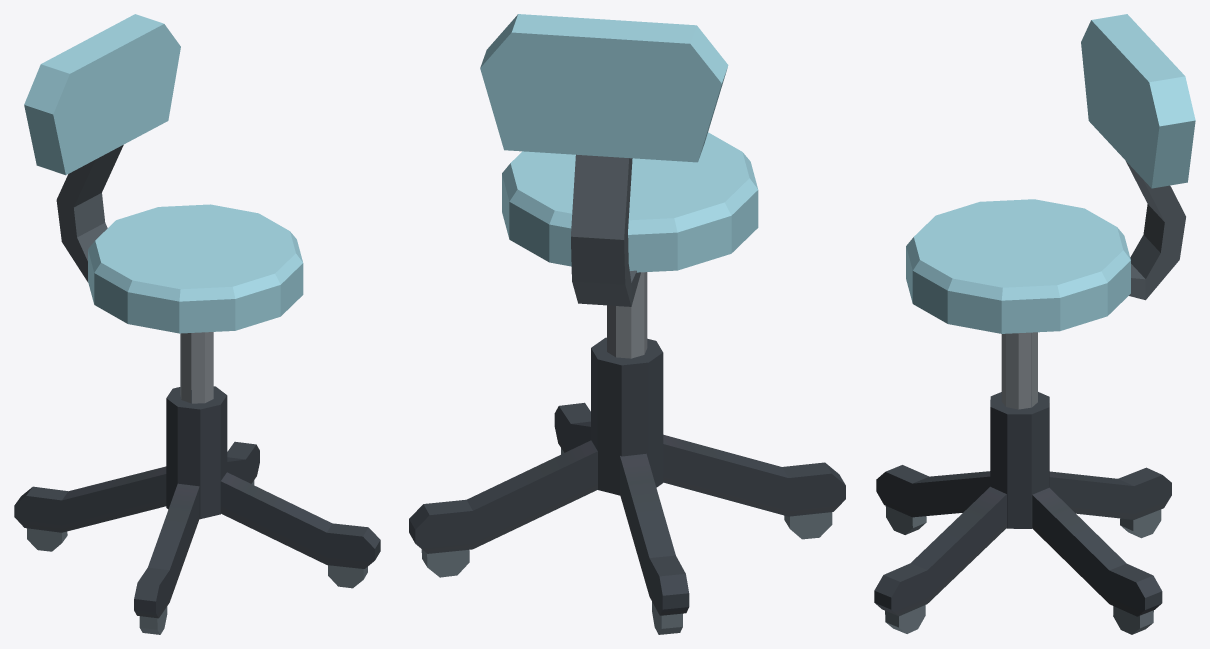
Rendered from WheelChair.glb.
The picture shows the model from 3 angles, left to right: view 1: azimuth 30°, elevation 25°; view 2: azimuth 150°, elevation 25°; view 3: azimuth 270°, elevation 25°; orthographic projection. The views are drawn at different scales.
Visible parts, largest first — view 1: seat1, support1, back1, base1, iron1, wheel1, small_base1.001, small_base1; view 2: back1, support1, seat1, base1, iron1, wheel1, small_base1; view 3: seat1, support1, back1, base1, iron1, wheel1, small_base1.001, small_base1.
Part boxes in pixels (left/top/right/bottom): seat1: left=88, top=204, right=303, bottom=333; support1: left=14, top=441, right=380, bottom=618; back1: left=24, top=14, right=180, bottom=175; base1: left=166, top=386, right=227, bottom=519; iron1: left=56, top=145, right=123, bottom=281; wheel1: left=27, top=480, right=367, bottom=634; small_base1.001: left=192, top=332, right=213, bottom=403; small_base1: left=180, top=333, right=191, bottom=403; back1: left=480, top=14, right=728, bottom=162; support1: left=409, top=402, right=845, bottom=615; seat1: left=502, top=132, right=758, bottom=272; base1: left=591, top=337, right=663, bottom=495; iron1: left=571, top=154, right=640, bottom=306; wheel1: left=421, top=448, right=832, bottom=634; small_base1: left=607, top=272, right=647, bottom=358; seat1: left=906, top=199, right=1130, bottom=333; support1: left=874, top=465, right=1171, bottom=616; back1: left=1081, top=14, right=1195, bottom=188; base1: left=990, top=392, right=1049, bottom=528; iron1: left=1125, top=160, right=1185, bottom=300; wheel1: left=885, top=506, right=1161, bottom=634; small_base1.001: left=1001, top=332, right=1031, bottom=409; small_base1: left=1031, top=332, right=1037, bottom=406.
Size of the model in its own units: 0.187 by 0.3519 by 0.1999.
2 materials, 2 textured.
